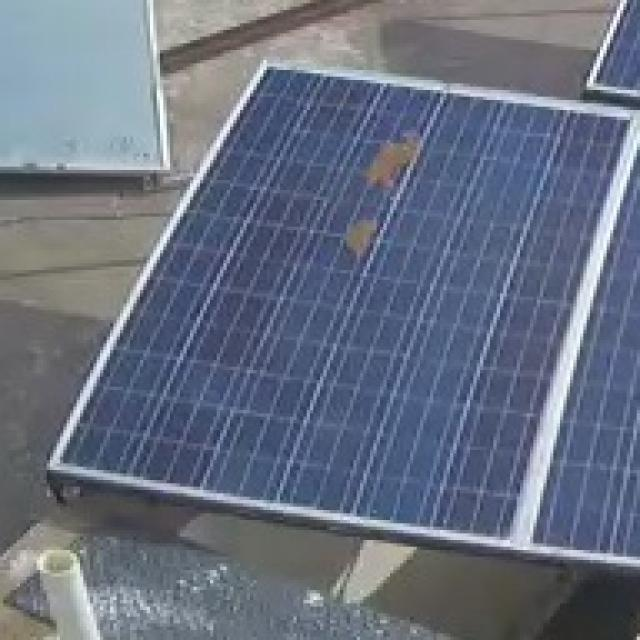Anomaly Solar Panel: (50, 64, 632, 549)
Surface Contaminant: (356, 121, 424, 191), (334, 215, 392, 264)
